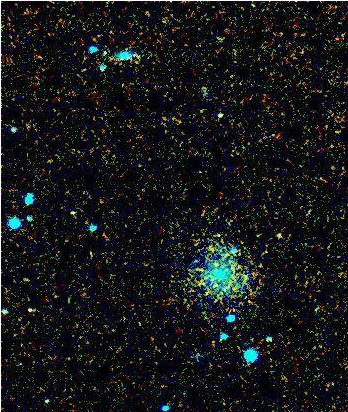star: (264, 224, 294, 254)
